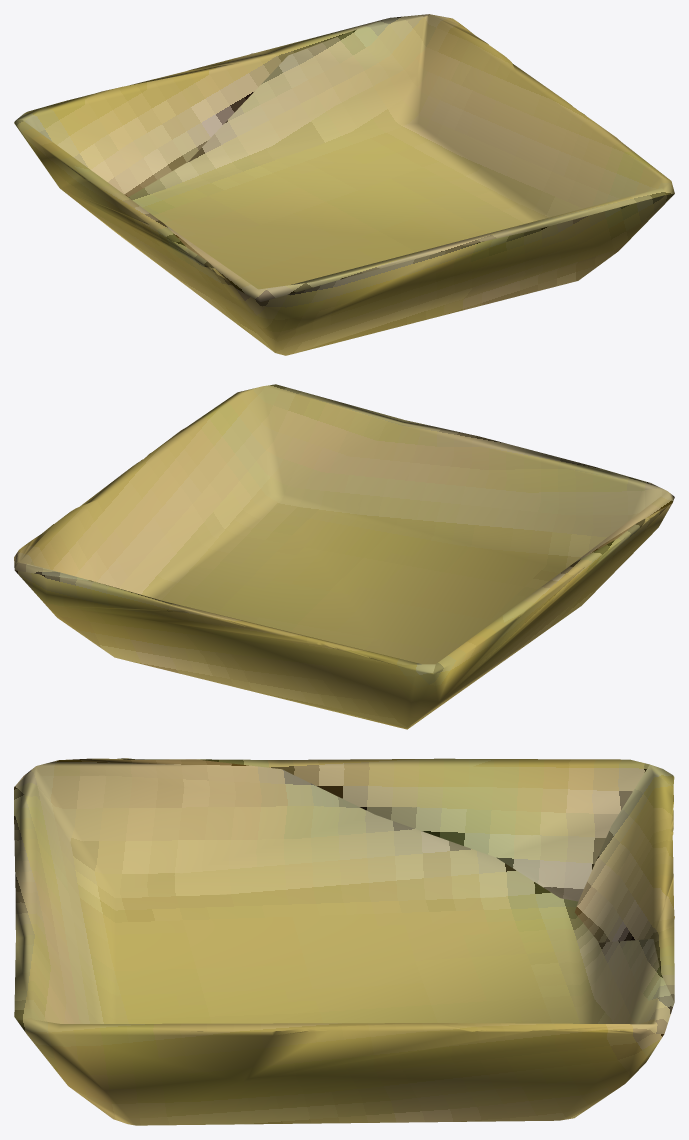
The model's file is Ecoforms_Plant_Saucer_SQ1HARVEST-low.glb.
The picture shows the model from 3 angles, top to bottom: view 1: azimuth 30°, elevation 25°; view 2: azimuth 150°, elevation 25°; view 3: azimuth 270°, elevation 25°; orthographic projection. The views are drawn at different scales.
Parts seen in each view (by area): view 1: Ecoforms_Plant_Saucer_SQ1HARVEST; view 2: Ecoforms_Plant_Saucer_SQ1HARVEST; view 3: Ecoforms_Plant_Saucer_SQ1HARVEST.
Boxes of the visible parts, x1=… form: Ecoforms_Plant_Saucer_SQ1HARVEST: x1=14, y1=14, x2=674, y2=355; Ecoforms_Plant_Saucer_SQ1HARVEST: x1=14, y1=384, x2=674, y2=729; Ecoforms_Plant_Saucer_SQ1HARVEST: x1=14, y1=758, x2=674, y2=1125.
Size of the model in its own units: 0.0862 by 0.0208 by 0.0863.
Materials: 1 (1 with a texture image).
